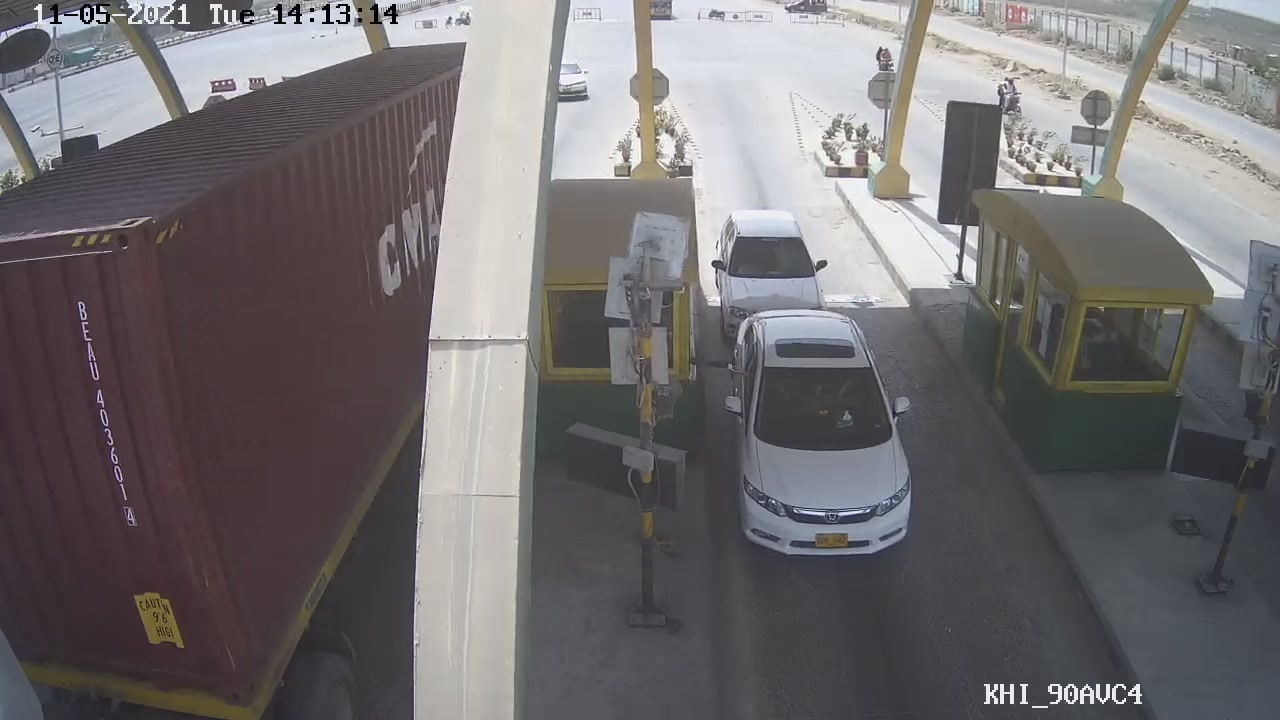F1: (715, 306, 924, 569)
